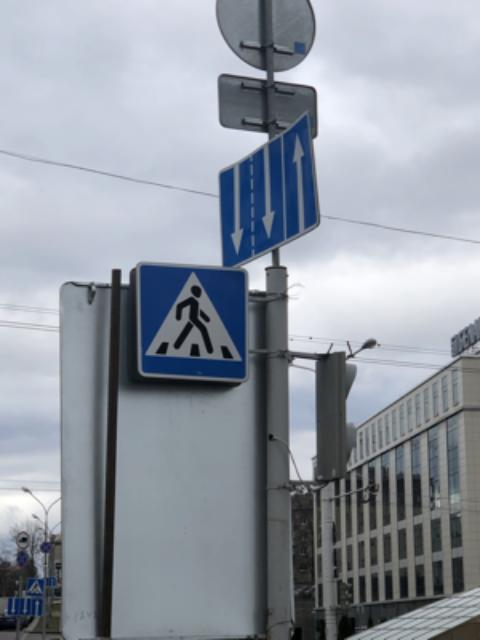crosswalk-sign: (131, 261, 251, 385)
